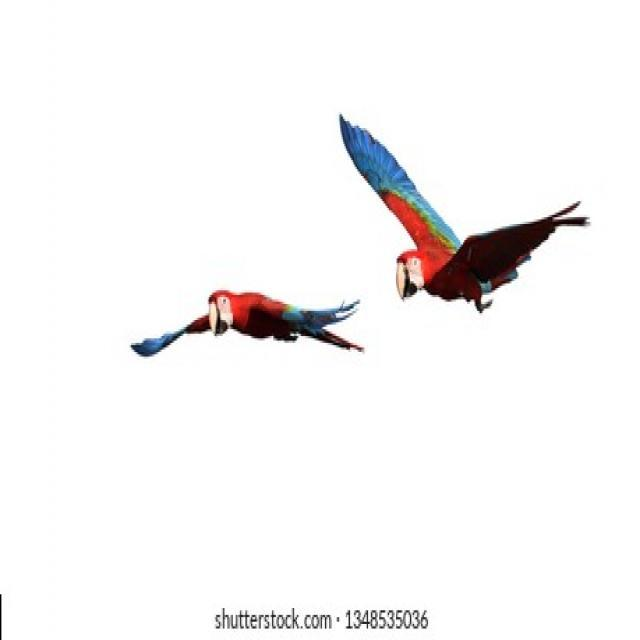bird: (322, 58, 604, 449), (93, 236, 408, 396)
